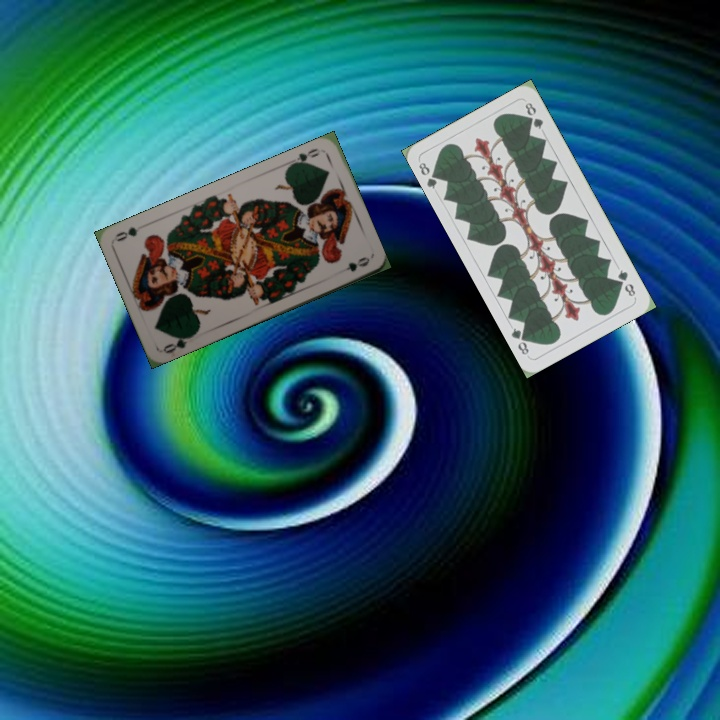G8: (414, 158, 443, 192), (613, 265, 638, 299)
GO: (159, 330, 197, 356), (287, 144, 321, 168)
